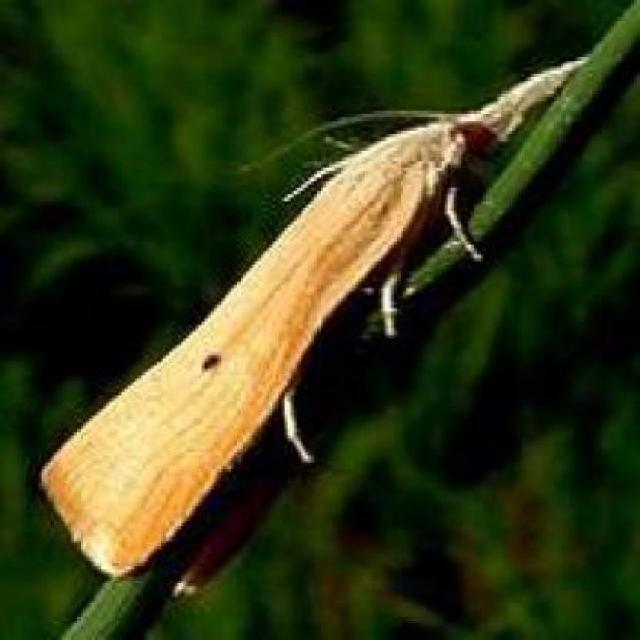stem-borer: (30, 48, 598, 587)
